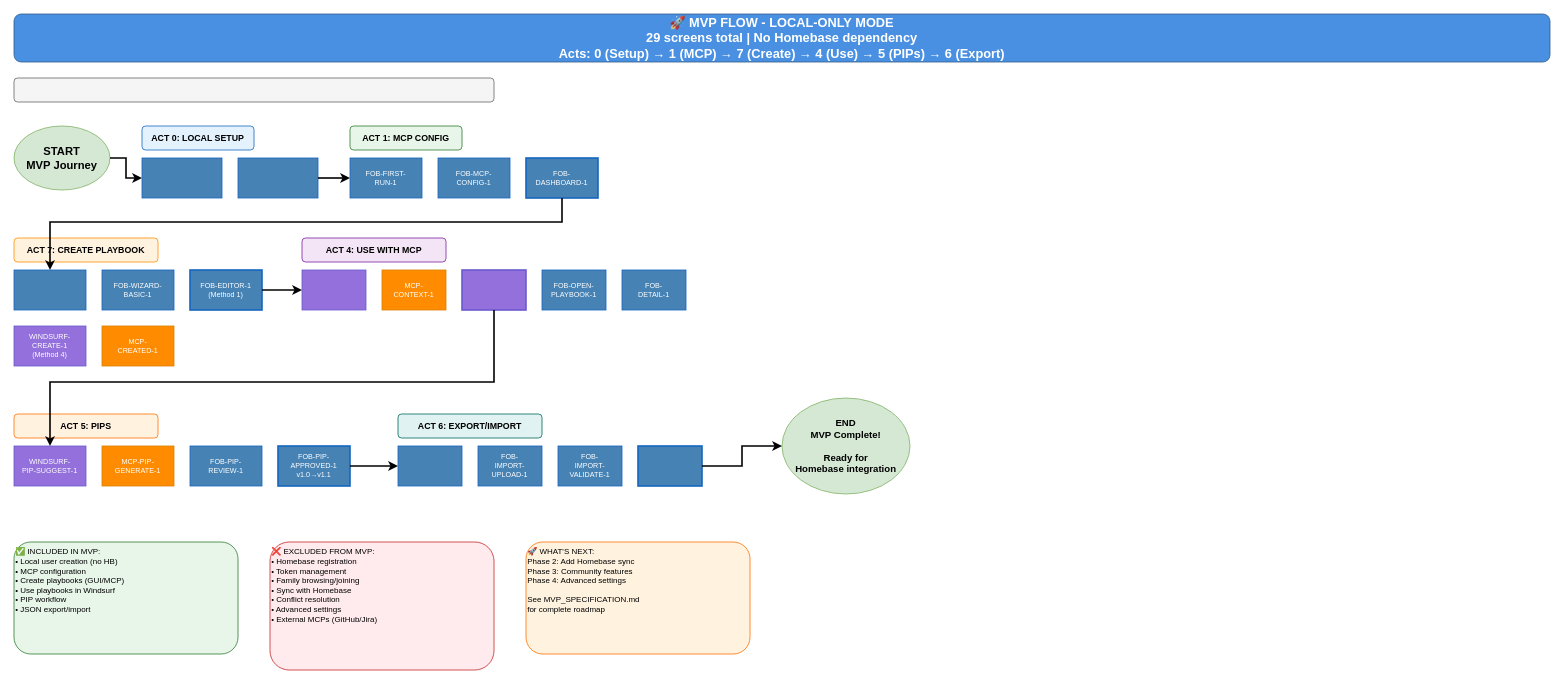
Image size: 1564x684. Some labels were removed from this diagram. Here are the shapes that lost their labels. From the top down, the centre of each, then its label:
point 253,89: 🟦 FOB GUI | 🟪 Windsurf | 🟧 MCP | ⬜ Modals
point 181,177: FOB-STARTUP-1 Pull Container
point 277,177: FOB-LOCAL- USER-CREATE-1
point 49,289: FOB-CREATE- PLAYBOOK-1
point 333,289: WINDSURF- CHAT-1
point 493,289: WINDSURF- COMMANDS-1
point 429,465: FOB- EXPORT-1
point 669,465: FOB- IMPORT- COMPLETE-1
